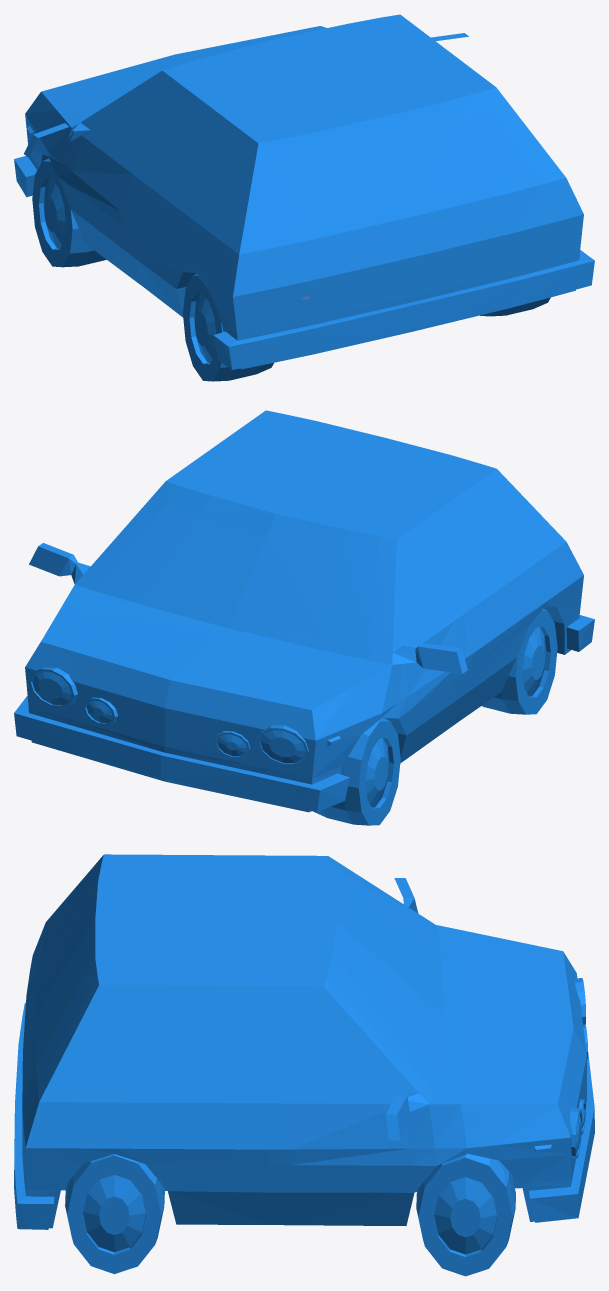
File: blue_car.glb
3 renders of one model, top to bottom at view 1: azimuth 30°, elevation 25°; view 2: azimuth 150°, elevation 25°; view 3: azimuth 270°, elevation 25°, orthographic. The views are drawn at different scales.
Parts seen in each view (by area): view 1: Car; view 2: Car; view 3: Car.
Part boxes in pixels (x1,y1,x2,y2): Car: (14, 14, 594, 381); Car: (14, 410, 594, 825); Car: (14, 854, 594, 1276).
Size of the model in its own units: 64.01 by 32.33 by 64.06.
1 material, 1 textured.
